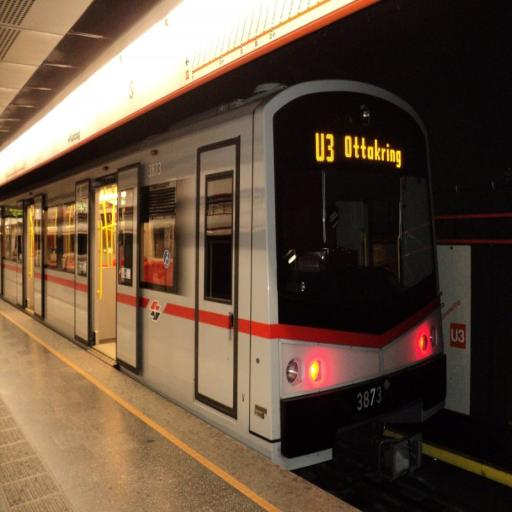V-Wagen: (0, 75, 449, 431)
